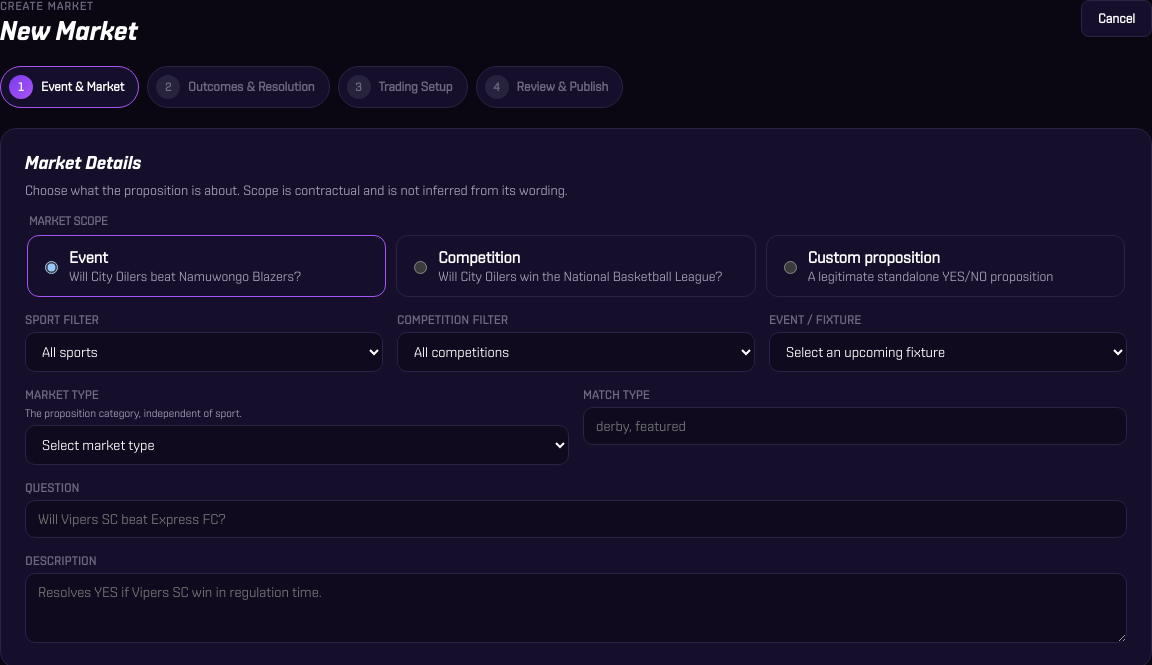
Test: CreateMarketWizard fixture binding › populates canonical sport, competition, venue and kickoff from the selected fixture
The width and height of the screenshot is (1152, 665).
Select "City Oilers vs Namuwongo Blazers — National Basketball League Uganda — Aug 15, 1" in the dropdown labelled "Event / Fixture" at (948, 352), box x1=769 y1=332 x2=1127 y2=372
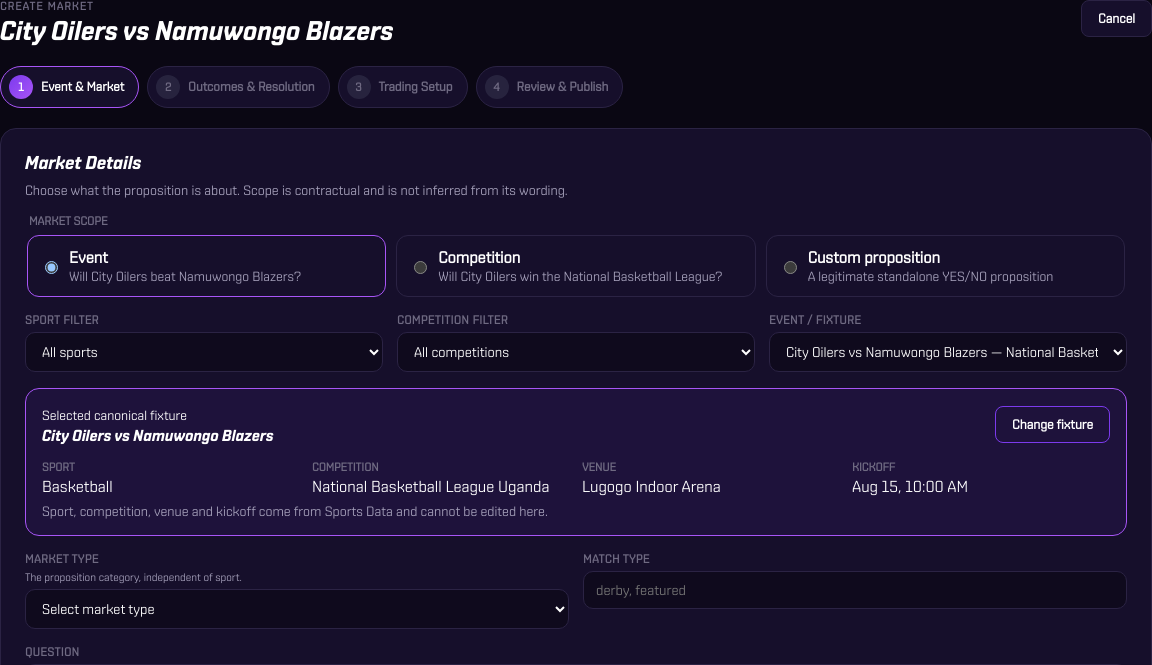
Expected: the element named "Selected fixture details" shows "Basketball", x1=42 y1=477 x2=113 y2=495
Expected: the element named "Selected fixture details" shows "National Basketball League Uganda", x1=312 y1=477 x2=549 y2=495
Expected: the element named "Selected fixture details" shows "Lugogo Indoor Arena", x1=582 y1=477 x2=721 y2=495
